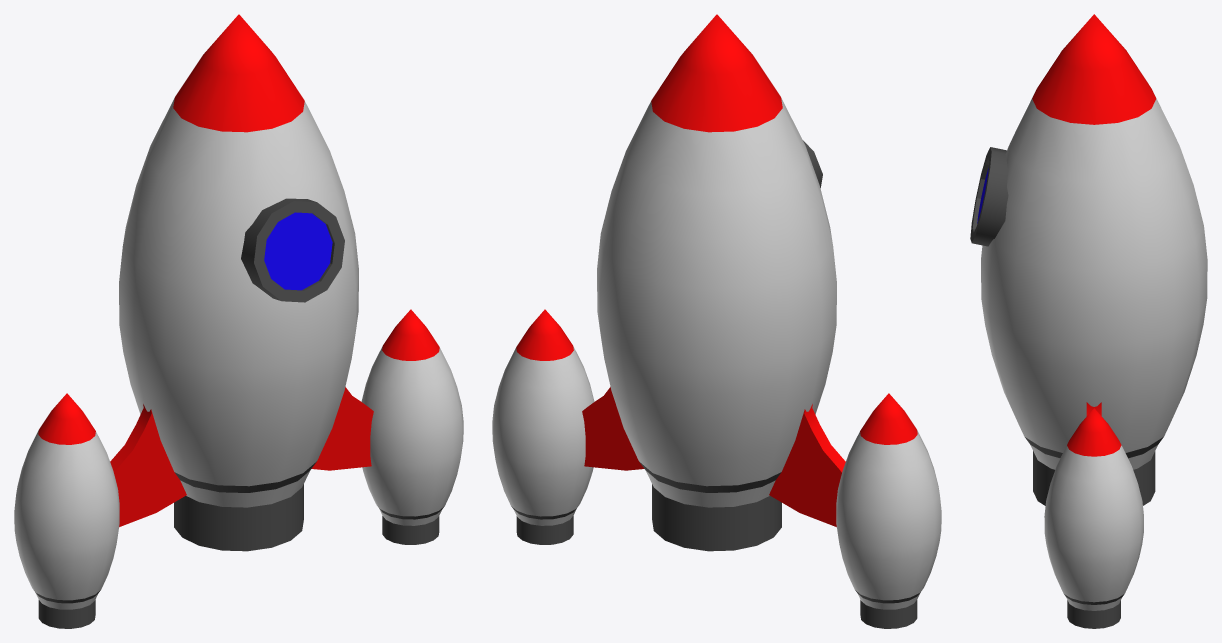
File: Rocket MK 2.fbx
3 renders of one model, left to right at view 1: azimuth 30°, elevation 25°; view 2: azimuth 150°, elevation 25°; view 3: azimuth 270°, elevation 25°, orthographic. The views are drawn at different scales.
Parts seen in each view (by area): view 1: Rocket Mk. 2; view 2: Rocket Mk. 2; view 3: Rocket Mk. 2.
Boxes of the visible parts, bbox=[...] form: Rocket Mk. 2: bbox=[14, 14, 463, 628]; Rocket Mk. 2: bbox=[492, 14, 941, 628]; Rocket Mk. 2: bbox=[970, 14, 1207, 628].
Bounding box in the file's own units: 81.68 × 100 × 41.13.
